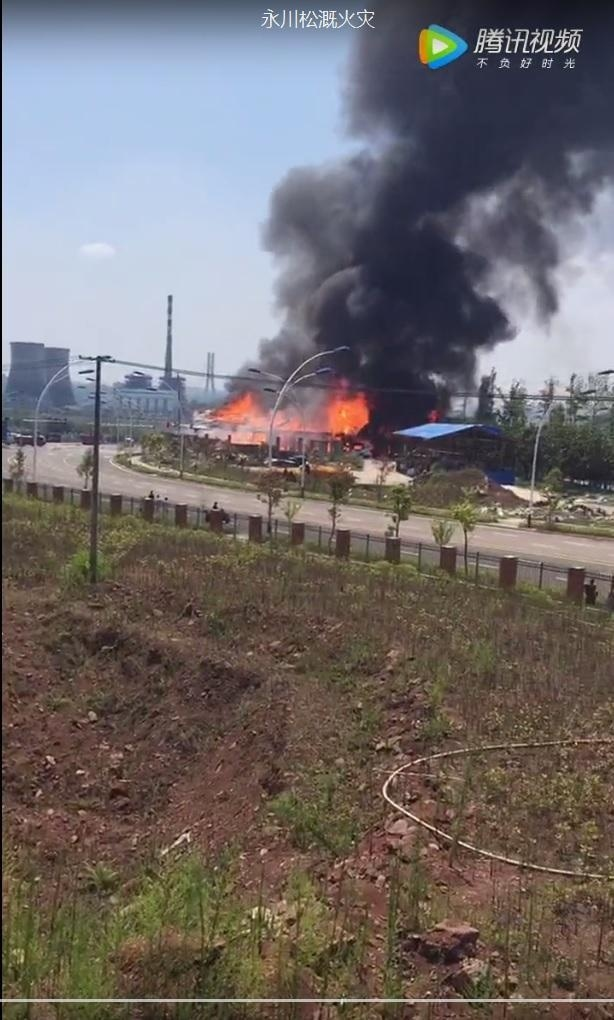fire: (203, 385, 364, 446), (322, 385, 370, 436)
